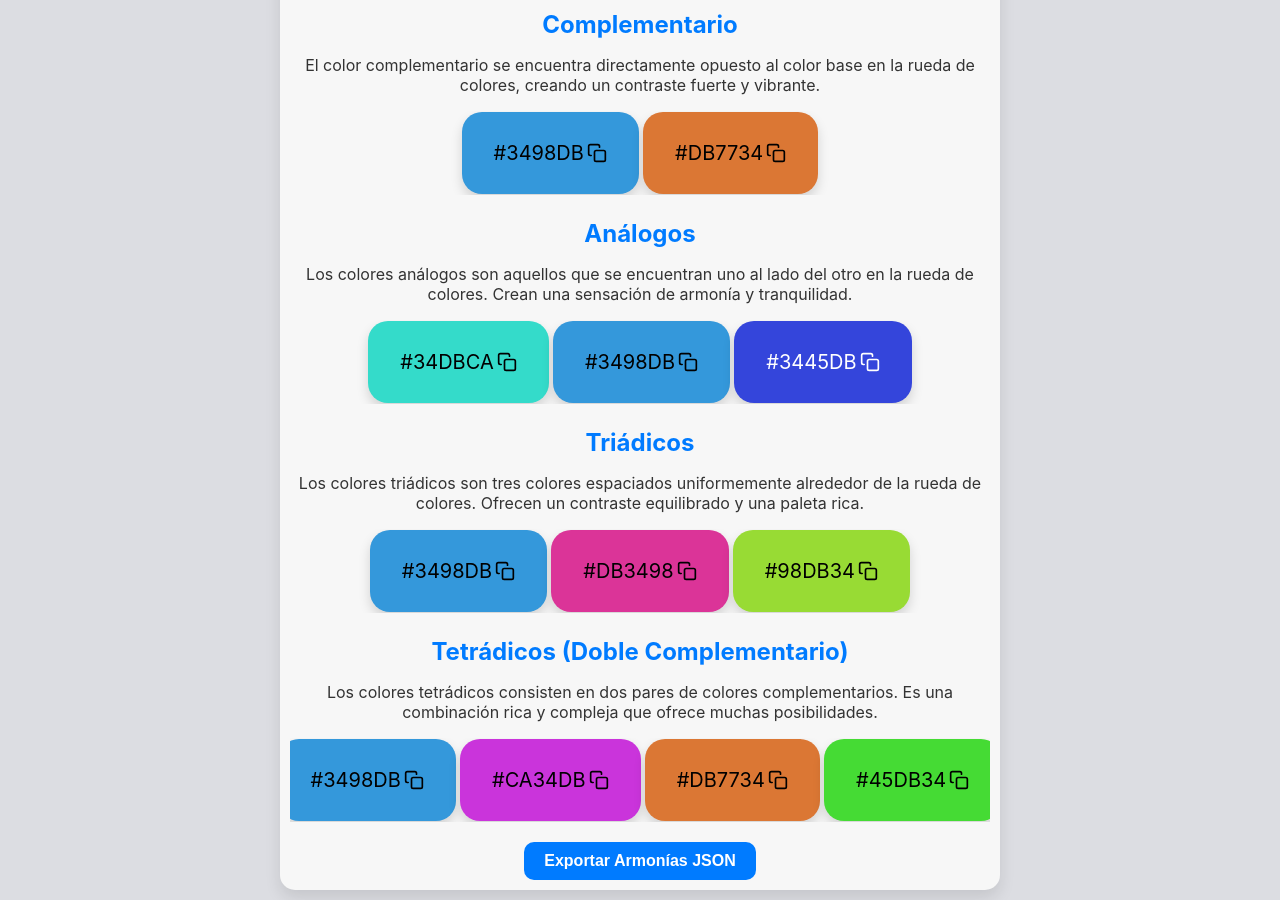
it: ColorHarmonyGenerator › shows JSON modal when export button is clicked
This screenshot has width=1280, height=900.
(page scrolled)
Click the button "Exportar Armonías JSON".
click(640, 861)  # box [524,842,756,880]
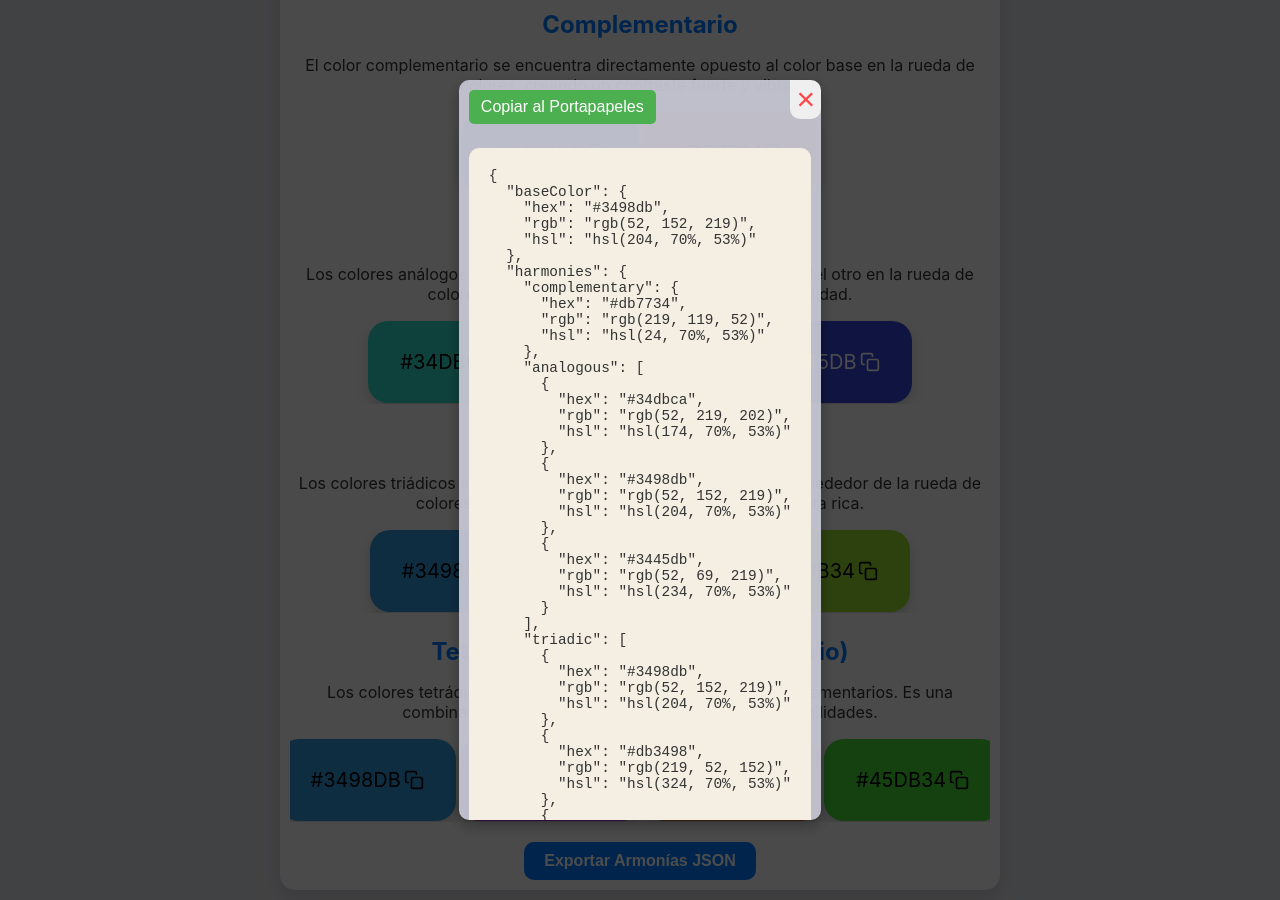
Result: the button "Copiar al Portapapeles" is shown at [469,90,656,124]
